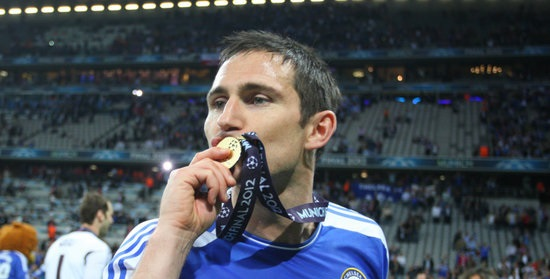face: (205, 61, 299, 183)
